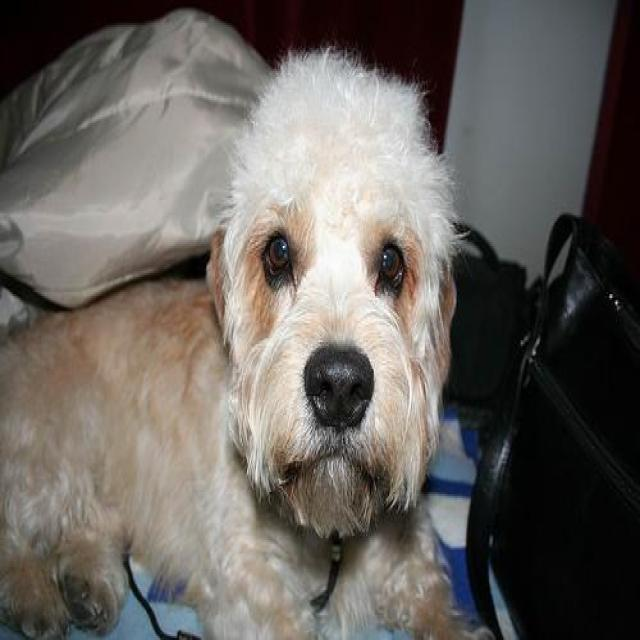dandie_dinmont: (4, 44, 470, 638)
